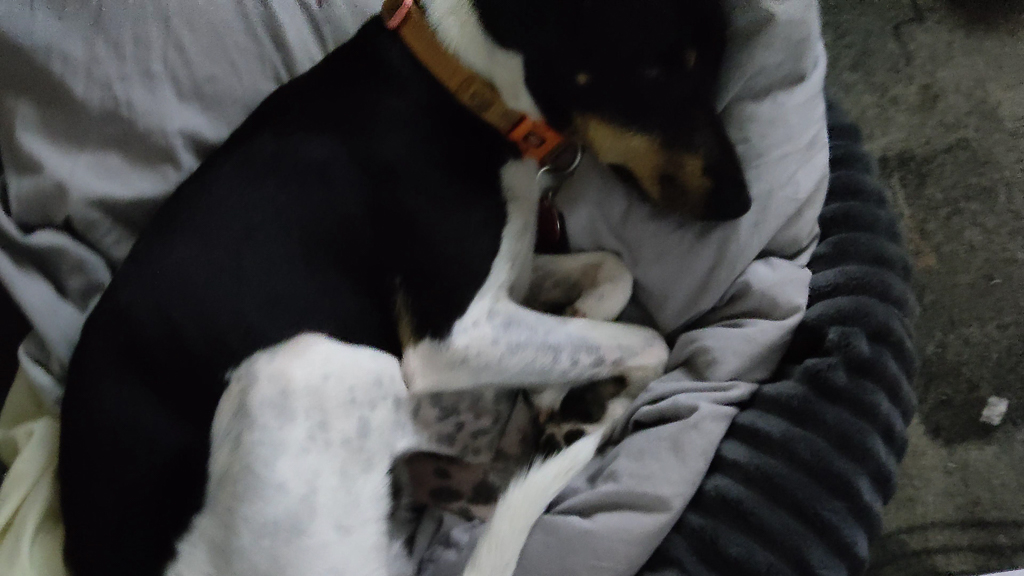Dog: (38, 0, 776, 576)
